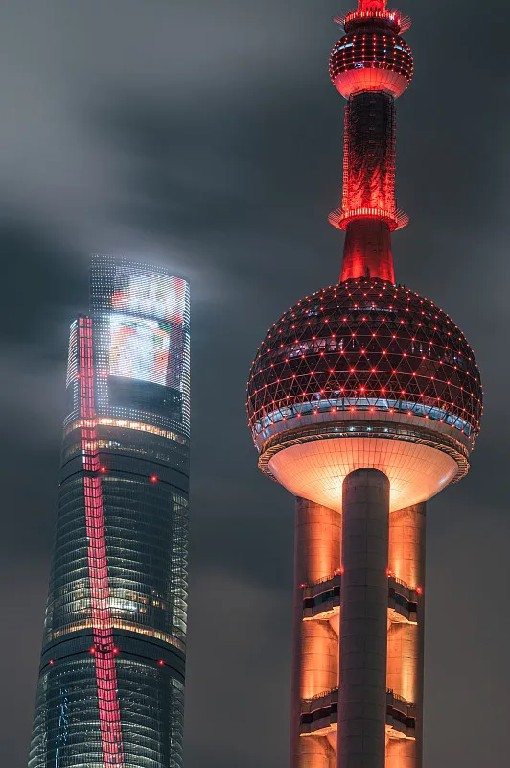Oriental: (246, 1, 482, 768)
